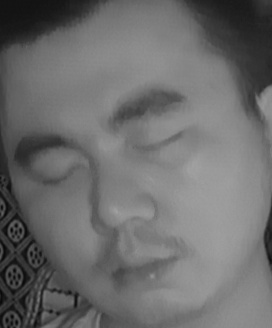blink: (134, 124, 192, 164), (35, 156, 86, 193)
mouth: (101, 237, 181, 295)
